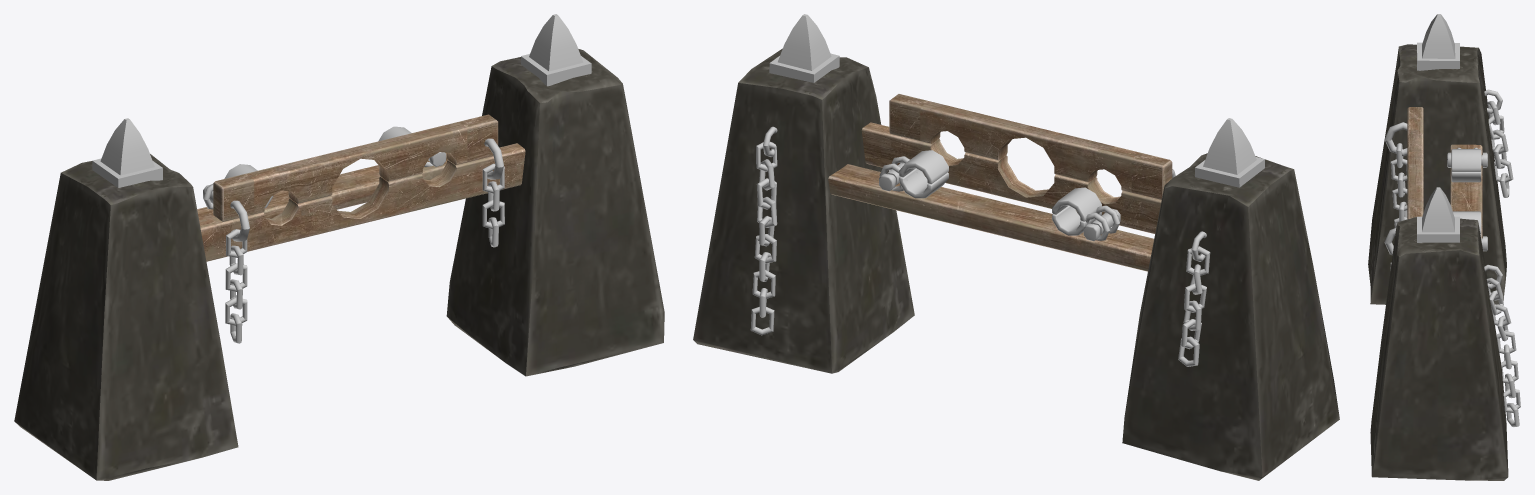
The picture shows the model from 3 angles, left to right: view 1: azimuth 30°, elevation 25°; view 2: azimuth 150°, elevation 25°; view 3: azimuth 270°, elevation 25°; orthographic projection. The views are drawn at different scales.
Parts seen in each view (by area): view 1: SM_HoldingBrace_01_LOD0; view 2: SM_HoldingBrace_01_LOD0; view 3: SM_HoldingBrace_01_LOD0.
Part boxes in pixels (<box>): SM_HoldingBrace_01_LOD0: <box>14,14,664,480</box>; SM_HoldingBrace_01_LOD0: <box>693,14,1339,480</box>; SM_HoldingBrace_01_LOD0: <box>1368,14,1520,480</box>.
Size of the model in its own units: 2.67 by 1.42 by 0.7438.
